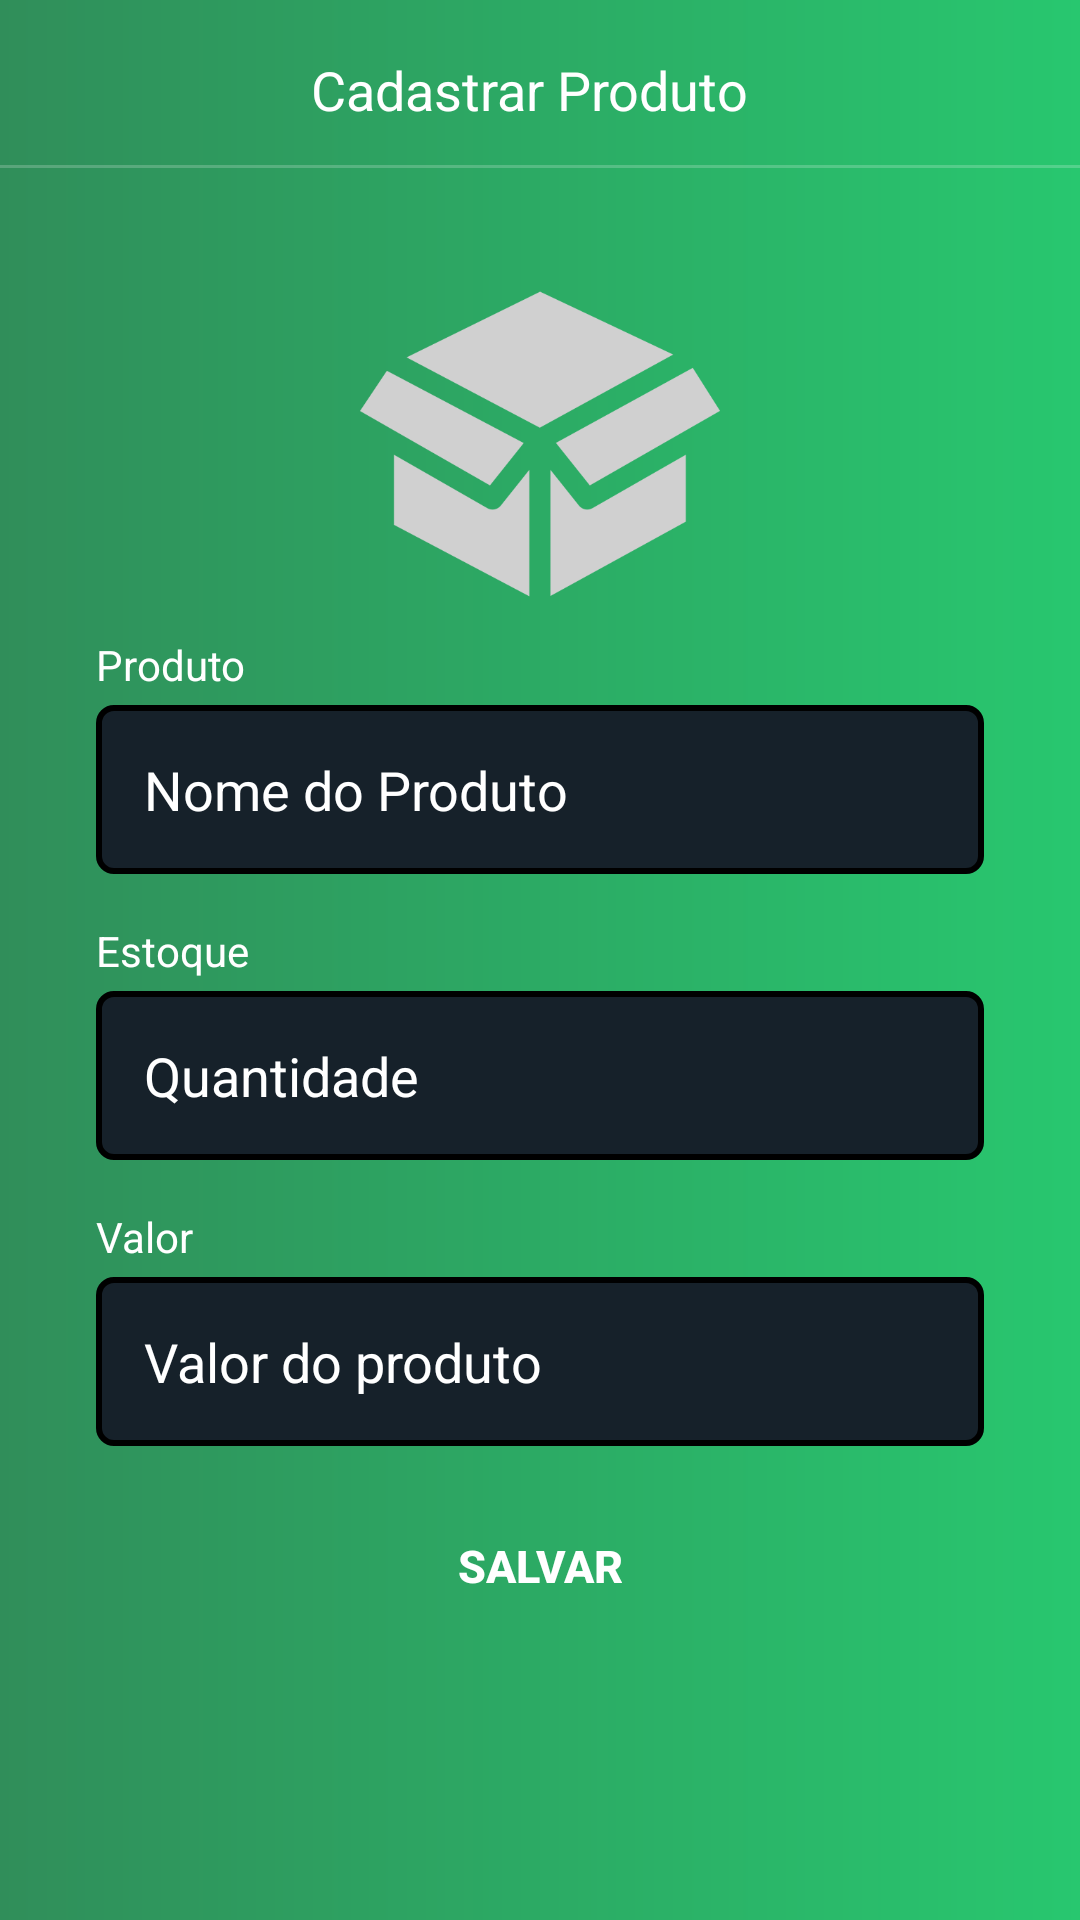

Icon bounding boxes for this 1080*1920 phone screenshot, format (x1, y1, x2, y2):
product: (360, 264, 720, 624)
